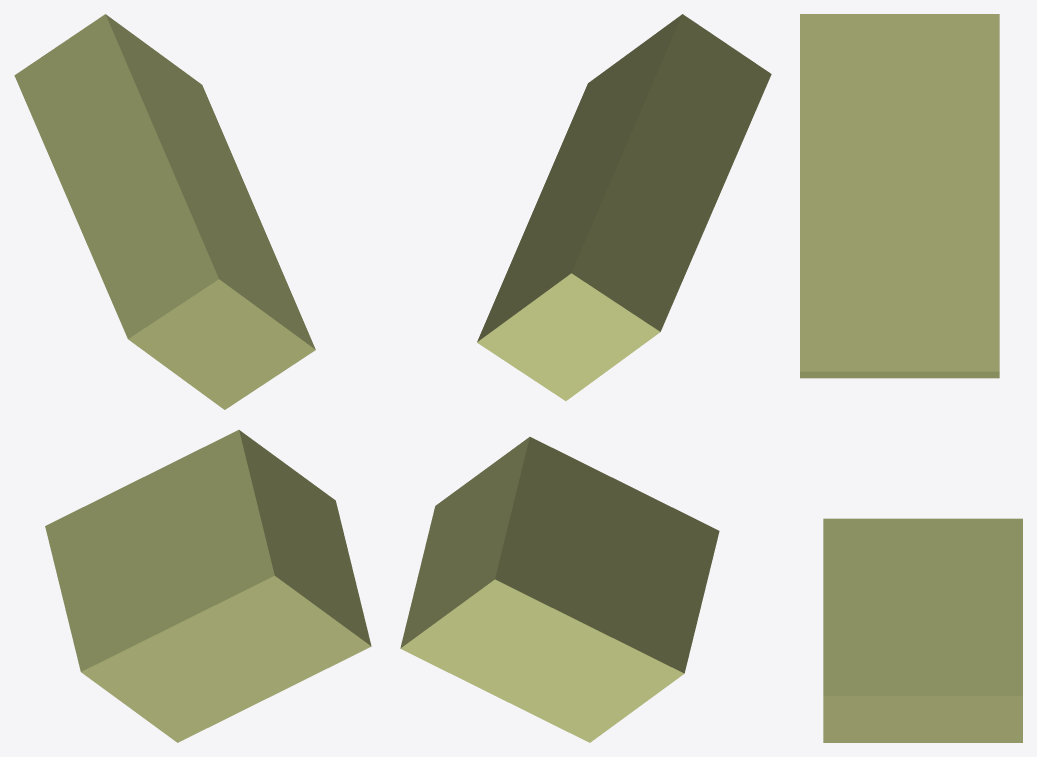
The picture shows the model from 3 angles, left to right: view 1: azimuth 30°, elevation 25°; view 2: azimuth 150°, elevation 25°; view 3: azimuth 270°, elevation 25°; orthographic projection. The views are drawn at different scales.
Parts seen in each view (by area): view 1: 0_1_0_2_0_0_2_0_1_0; view 2: 0_1_0_2_0_0_2_0_1_0; view 3: 0_1_0_2_0_0_2_0_1_0.
Boxes of the visible parts, x1=… form: 0_1_0_2_0_0_2_0_1_0: x1=14, y1=14, x2=371, y2=742; 0_1_0_2_0_0_2_0_1_0: x1=400, y1=14, x2=771, y2=742; 0_1_0_2_0_0_2_0_1_0: x1=800, y1=14, x2=1022, y2=742.
Bounding box in the file's own units: 9.72 × 22.67 × 6.7.
